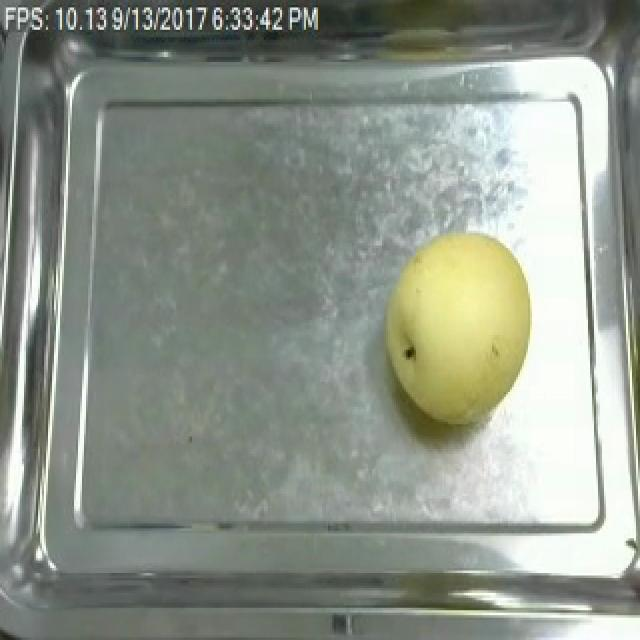Fruit: (374, 223, 542, 432)
